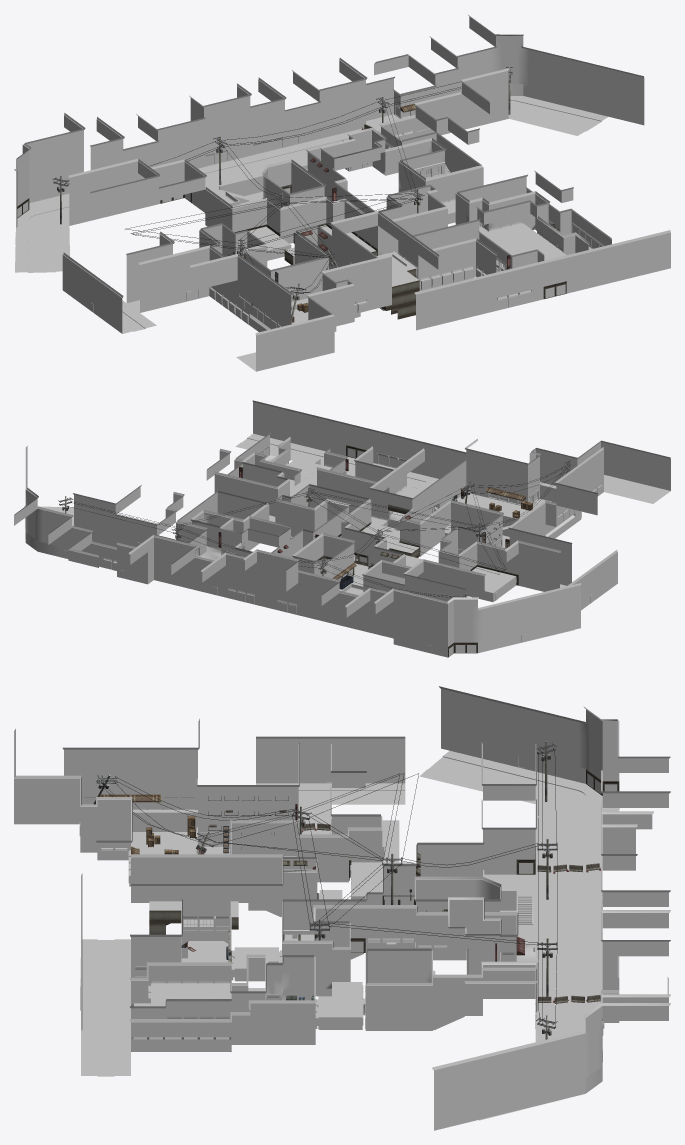
Rendered from Downtown_World.obj.
3 views of the same model, one above another, from view 1: azimuth 30°, elevation 25°; view 2: azimuth 150°, elevation 25°; view 3: azimuth 270°, elevation 25° (orthographic). The views are drawn at different scales.
Parts seen in each view (by area): view 1: Downtown_out, Downtown_Object, Downtown_In; view 2: Downtown_out, Downtown_Object, Downtown_In, Downtown_Alpha; view 3: Downtown_out, Downtown_Object, Downtown_In, Downtown_Alpha.
Boxes of the visible parts, box(x1,y1,x2,y2) form: Downtown_out: box(14, 15, 670, 371); Downtown_Object: box(52, 66, 558, 323); Downtown_In: box(248, 200, 566, 319); Downtown_out: box(14, 400, 670, 657); Downtown_Object: box(58, 459, 572, 597); Downtown_In: box(269, 454, 516, 601); Downtown_Alpha: box(213, 494, 581, 578); Downtown_out: box(14, 686, 670, 1130); Downtown_Object: box(93, 741, 600, 1039); Downtown_In: box(134, 820, 413, 1029); Downtown_Alpha: box(187, 797, 512, 982).
Size of the model in its own units: 186 by 24.43 by 135.
